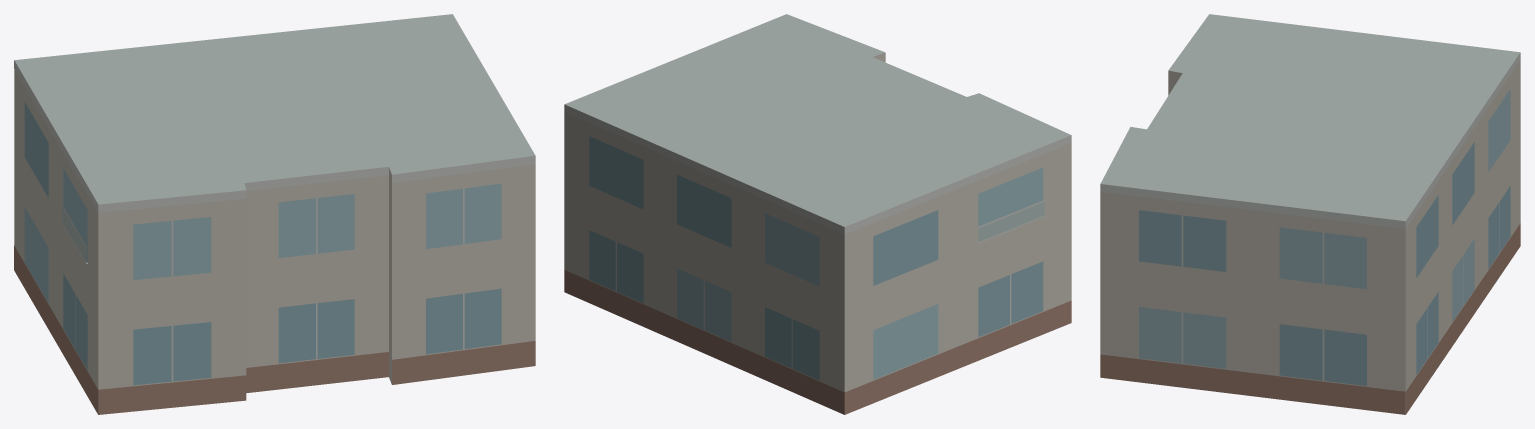
Rendered from survey-upis-32655225.glb.
3 renders of one model, left to right at view 1: azimuth 30°, elevation 25°; view 2: azimuth 150°, elevation 25°; view 3: azimuth 270°, elevation 25°, orthographic. The views are drawn at different scales.
Parts seen in each view (by area): view 1: survey-upis-32655225.tmp; view 2: survey-upis-32655225.tmp; view 3: survey-upis-32655225.tmp.
Part boxes in pixels (<box>): survey-upis-32655225.tmp: <box>14,14,535,414</box>; survey-upis-32655225.tmp: <box>564,14,1071,414</box>; survey-upis-32655225.tmp: <box>1100,14,1520,414</box>.
Bounding box in the file's own units: 14.01 × 6.1 × 12.01.
